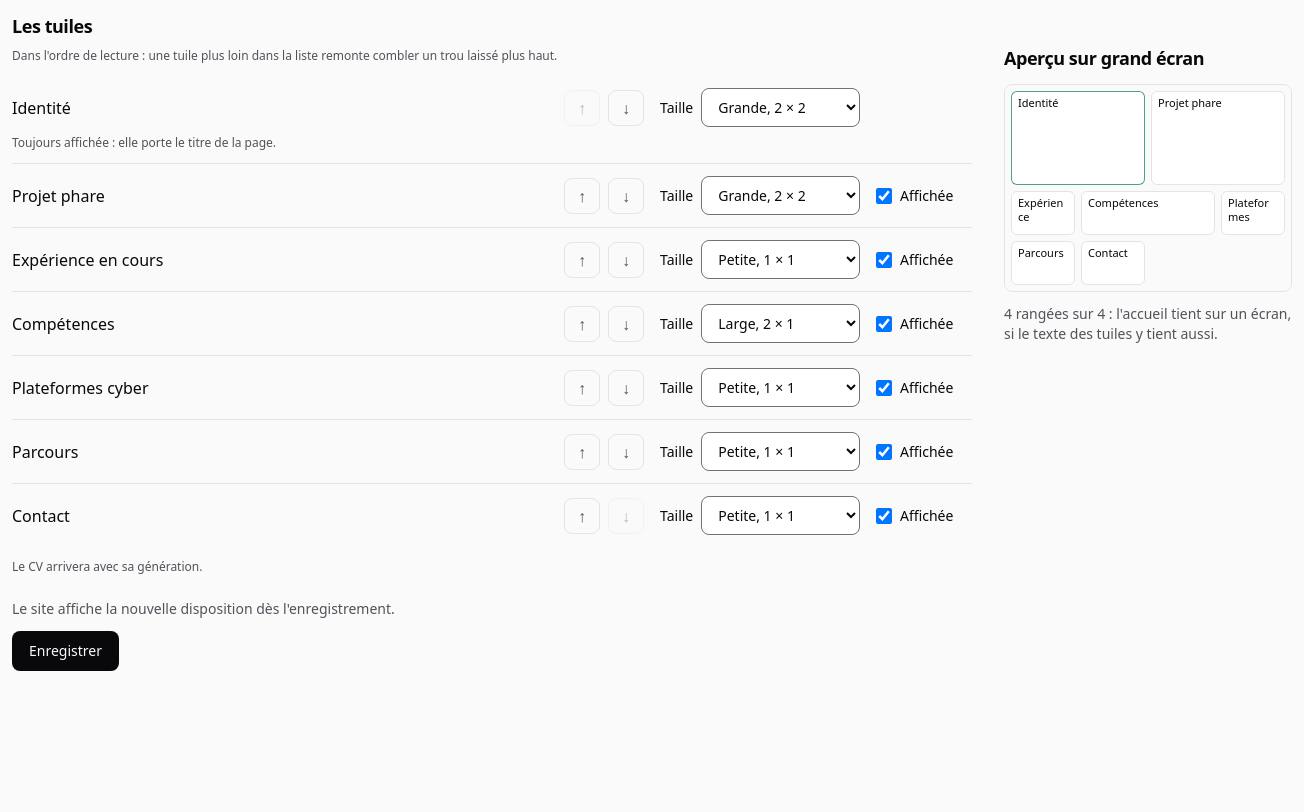
Test case: BentoForm › warns, before saving, when the hub no longer fits one screen
Select "Grande, 2 × 2" in the dropdown named "Taille (Compétences)" at (781, 324), box 701,304 -> 860,343
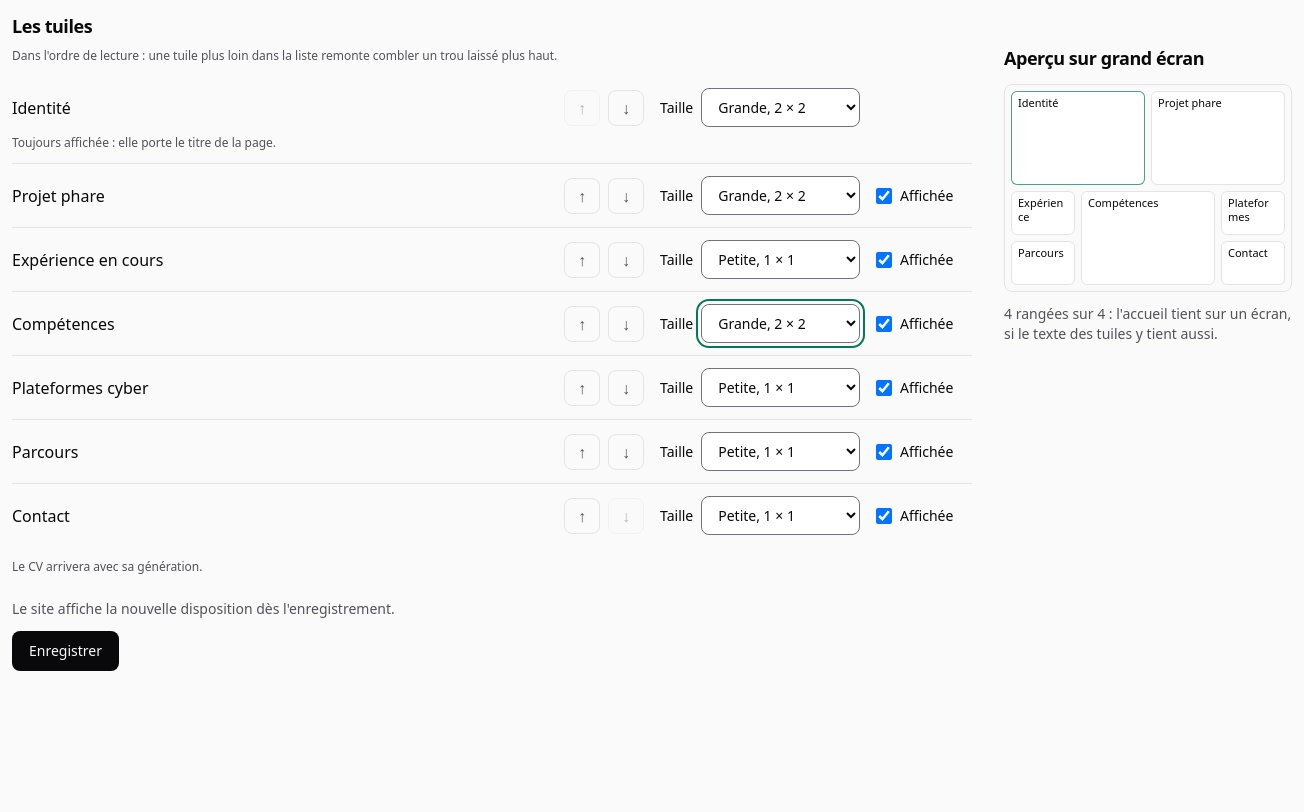
Expected: the text "4 rangées sur 4" is shown, 1004,304 -> 1291,343
Select "Large, 2 × 1" in the dropdown named "Taille (Parcours)" at (781, 452), box 701,432 -> 860,471
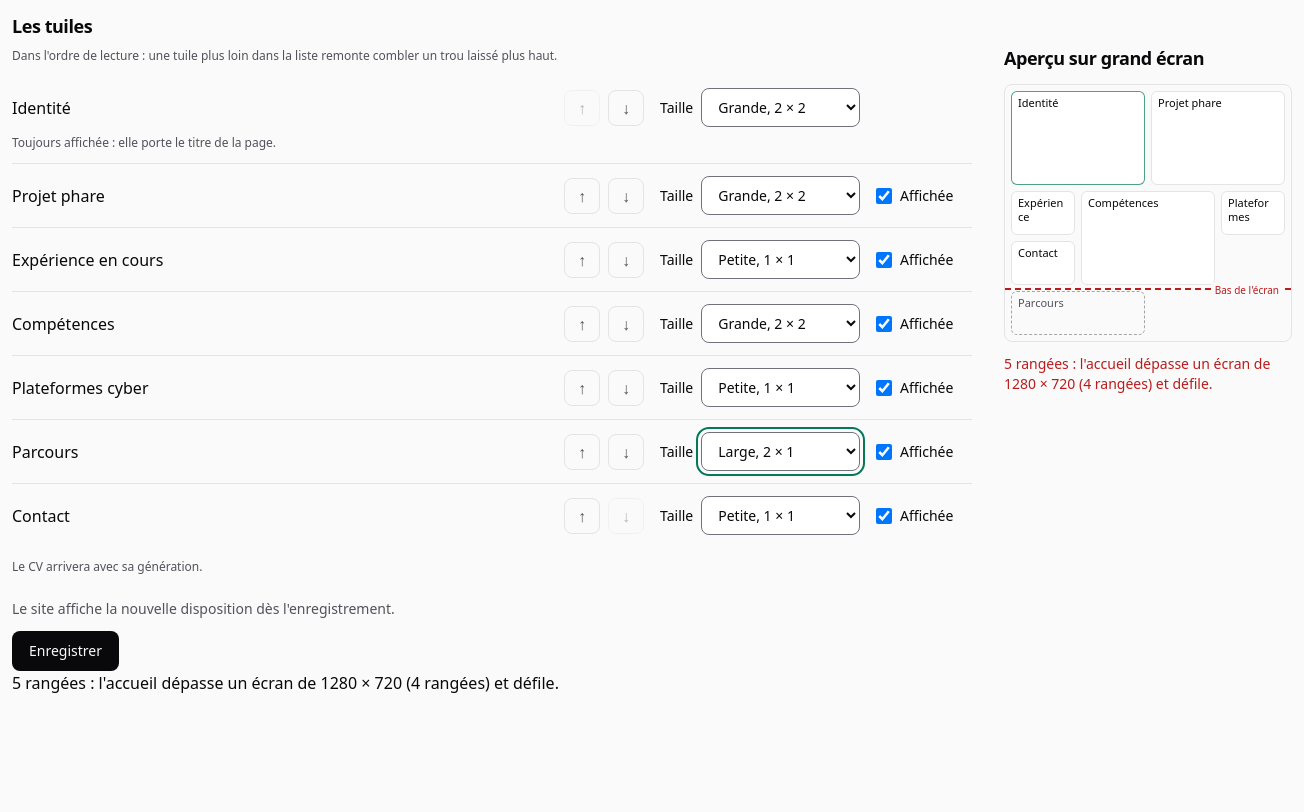
Result: the text "5 rangées : l'accueil dépasse un écran de 1280 × 720 (4 rangées) et défile." is shown at 1004,354 -> 1292,394
Result: the text "5 rangées : l'accueil dépasse un écran" is shown at 1004,354 -> 1270,393
Click the checkbox named "Affichée (Compétences)" at (884, 324), box 876,316 -> 892,332
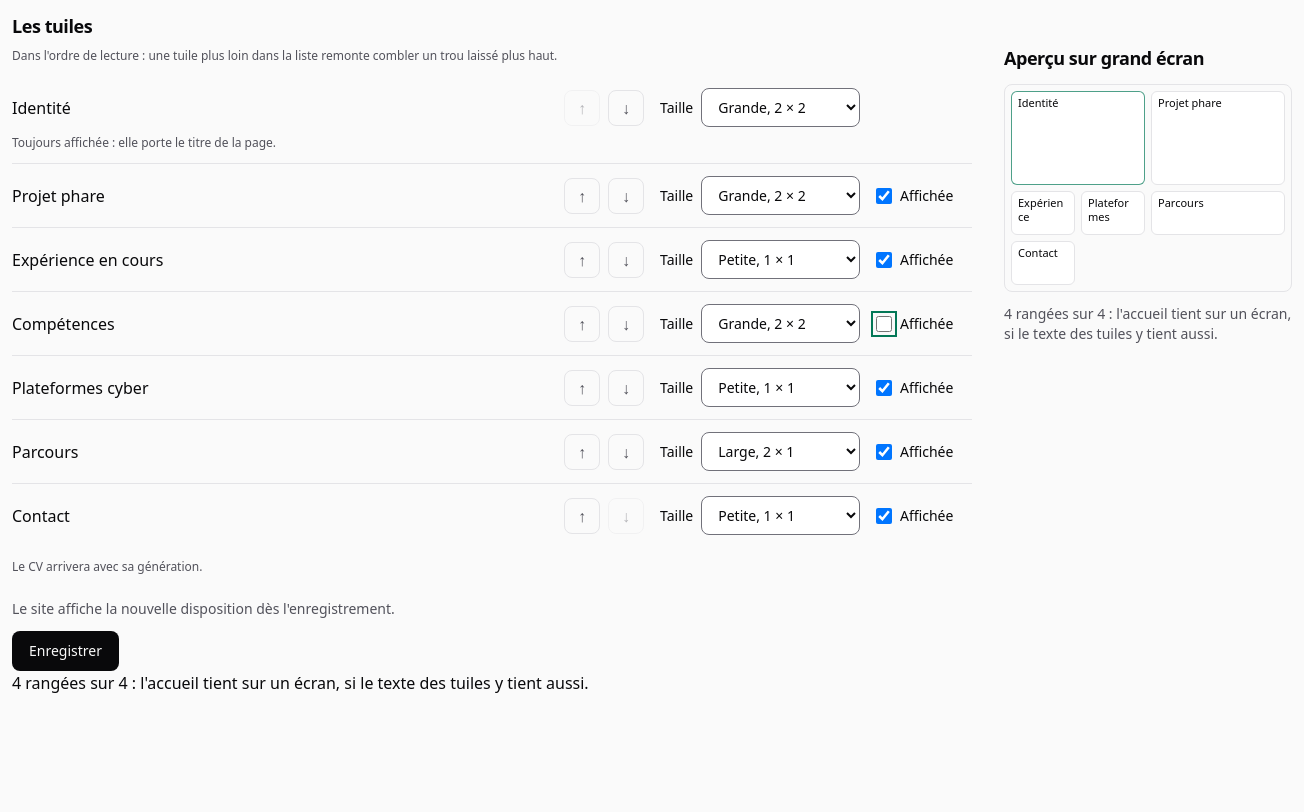
Result: the text "4 rangées sur 4" is shown at 1004,304 -> 1291,343
